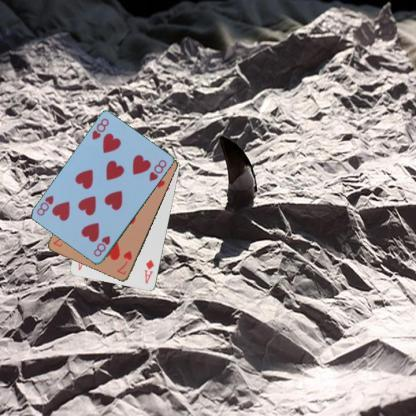7h: (115, 249, 134, 276)
8h: (90, 234, 112, 258), (90, 116, 110, 141)
Ad: (142, 257, 156, 285)
